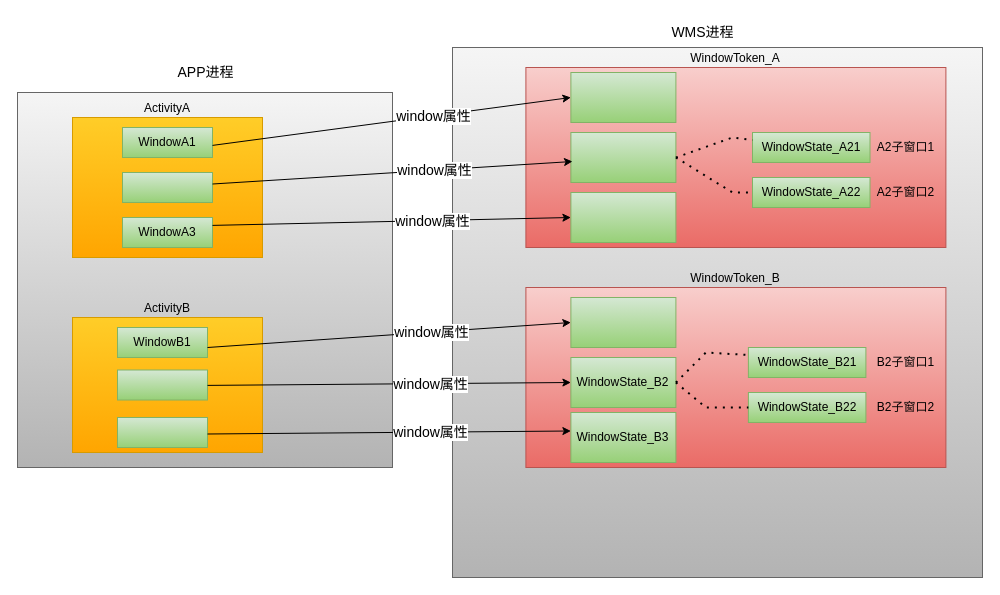
This 1000x595 diagram has some shape labels left out. Here are the shapes that lost their labels. From the top down, the centre of each, then its label:
(x=623, y=97): WindowState_A1
(x=623, y=157): WindowState_A2
(x=167, y=187): WindowA2
(x=623, y=217): WindowState_A3
(x=623, y=322): WindowState_B1
(x=162, y=384): WindowB2
(x=162, y=432): WindowB3
